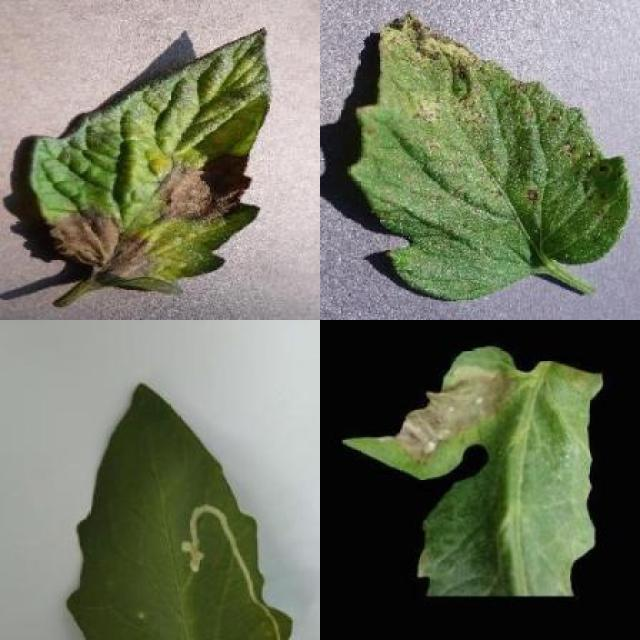Late Blight: (344, 345, 604, 598), (31, 25, 272, 292)
Leaf Miner: (60, 381, 296, 640)
Septoria: (350, 10, 630, 304)
